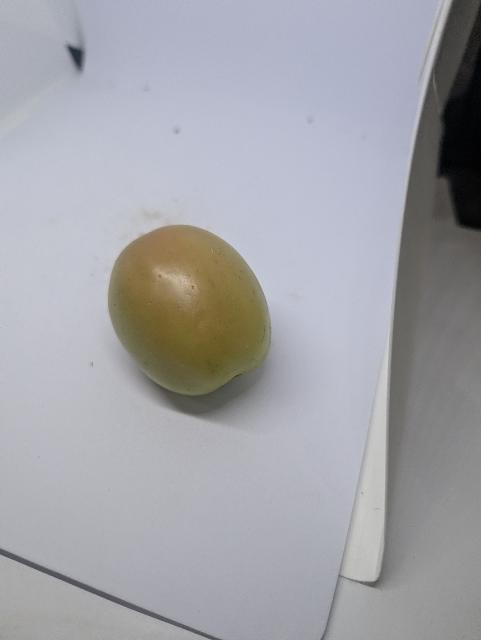breaker: (104, 221, 277, 402)
